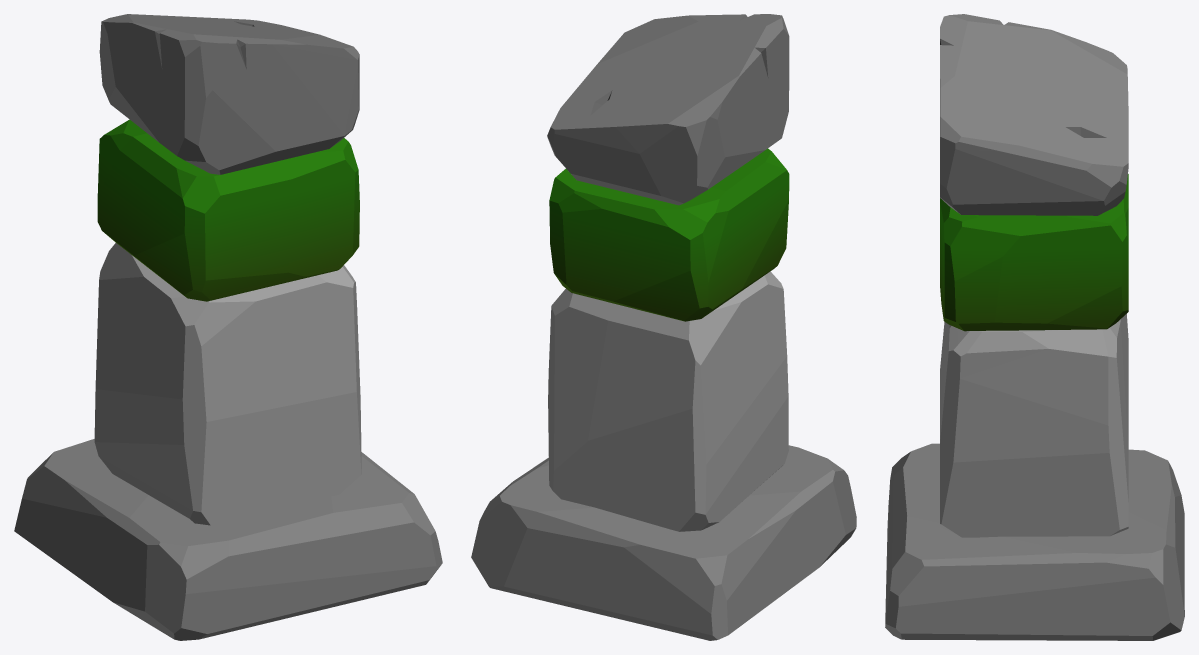
File: Pillar02.fbx
The picture shows the model from 3 angles, left to right: view 1: azimuth 30°, elevation 25°; view 2: azimuth 150°, elevation 25°; view 3: azimuth 270°, elevation 25°; orthographic projection. The views are drawn at different scales.
Visible parts, largest first — view 1: LOD0; view 2: LOD0; view 3: LOD0.
Boxes of the visible parts, box(x1,y1,x2,y2) form: LOD0: box(14, 14, 442, 640); LOD0: box(471, 14, 856, 640); LOD0: box(885, 14, 1184, 640).
Size of what is drawn, in the model's own units: 146 by 146 by 285.
